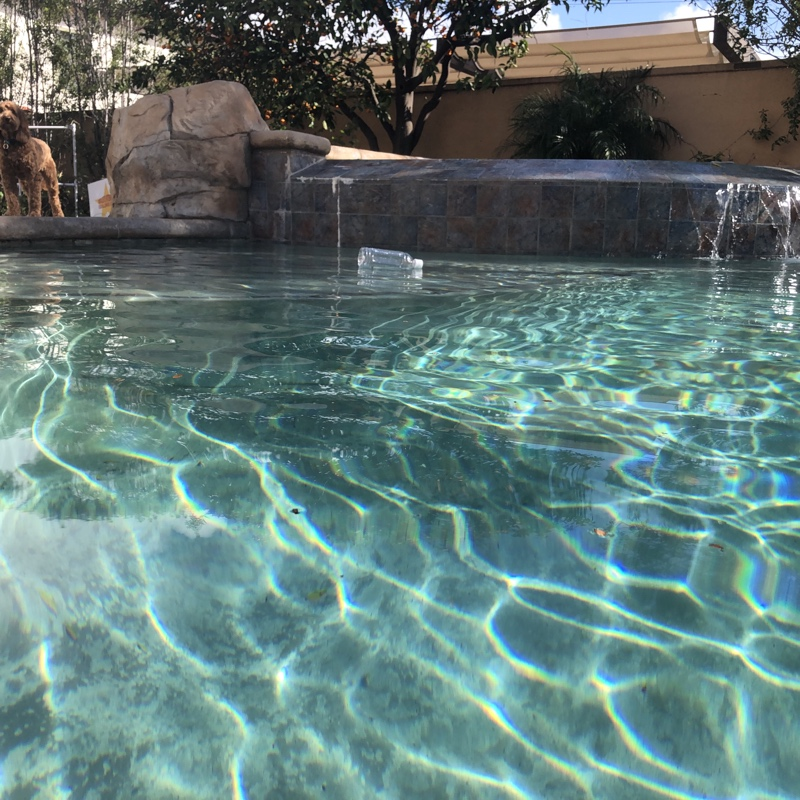Plastic Bottle: (353, 244, 426, 275)
